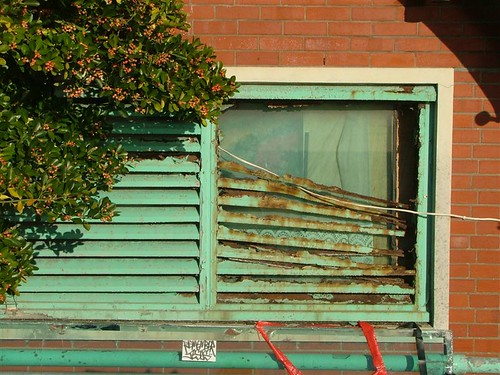tree: (1, 1, 243, 302)
window: (214, 97, 426, 308)
